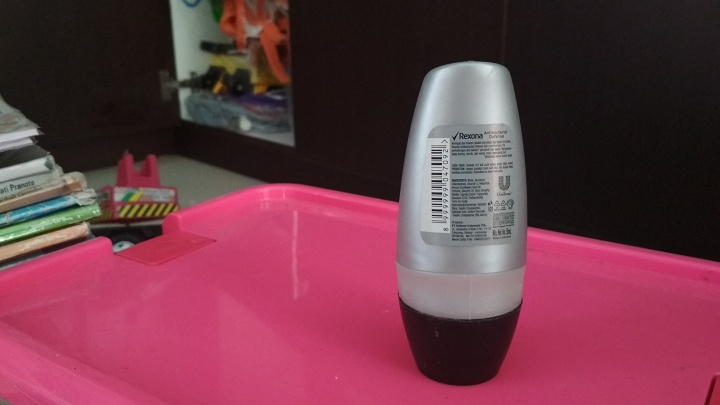rexona: (385, 59, 527, 385), (395, 59, 527, 385)
